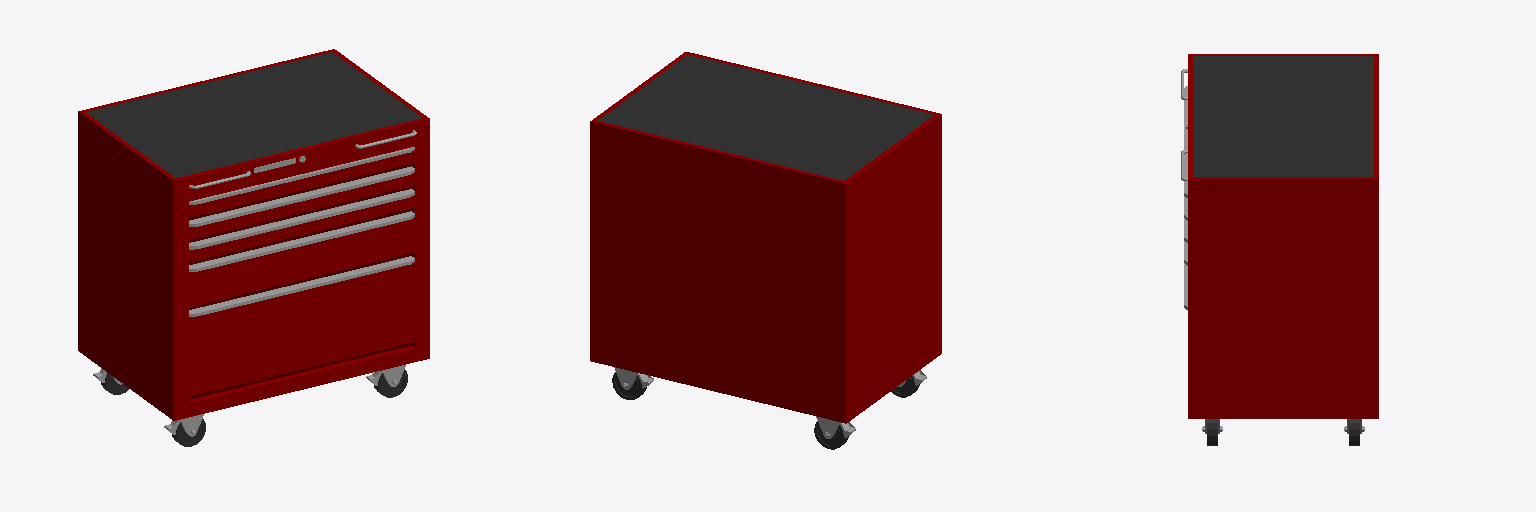
File: Toolbox.obj
3 renders of one model, left to right at view 1: azimuth 30°, elevation 25°; view 2: azimuth 150°, elevation 25°; view 3: azimuth 270°, elevation 25°, orthographic.
Visible parts, largest first — view 1: Mesh9 Group2 UC_091_1 Model, Mesh45 Group7 UC_091_1 Model, Mesh44 Group7 UC_091_1 Model, Mesh43 Group7 UC_091_1 Model, Mesh41 Group7 UC_091_1 Model, Mesh42 Group7 UC_091_1 Model, Mesh33 Group6 UC_091_1 Model, Mesh34 Group6 UC_091_1 Model, Mesh38 Group6 UC_091_1 Model, Mesh37 Group6 UC_091_1 Model, Mesh32 Group6 UC_091_1 Model; view 2: Mesh9 Group2 UC_091_1 Model; view 3: Mesh9 Group2 UC_091_1 Model.
Boxes of the visible parts, x1=… form: Mesh9 Group2 UC_091_1 Model: x1=78, y1=49, x2=429, y2=420; Mesh45 Group7 UC_091_1 Model: x1=189, y1=262, x2=414, y2=399; Mesh44 Group7 UC_091_1 Model: x1=189, y1=217, x2=414, y2=309; Mesh43 Group7 UC_091_1 Model: x1=189, y1=172, x2=414, y2=242; Mesh41 Group7 UC_091_1 Model: x1=189, y1=150, x2=414, y2=220; Mesh42 Group7 UC_091_1 Model: x1=189, y1=195, x2=414, y2=264; Mesh33 Group6 UC_091_1 Model: x1=189, y1=189, x2=414, y2=249; Mesh34 Group6 UC_091_1 Model: x1=189, y1=256, x2=414, y2=316; Mesh38 Group6 UC_091_1 Model: x1=189, y1=211, x2=414, y2=271; Mesh37 Group6 UC_091_1 Model: x1=189, y1=166, x2=414, y2=226; Mesh32 Group6 UC_091_1 Model: x1=189, y1=147, x2=414, y2=204; Mesh9 Group2 UC_091_1 Model: x1=590, y1=52, x2=941, y2=423; Mesh9 Group2 UC_091_1 Model: x1=1188, y1=54, x2=1378, y2=418.
Bounding box in the file's own units: 0.85 × 0.885 × 0.5705.